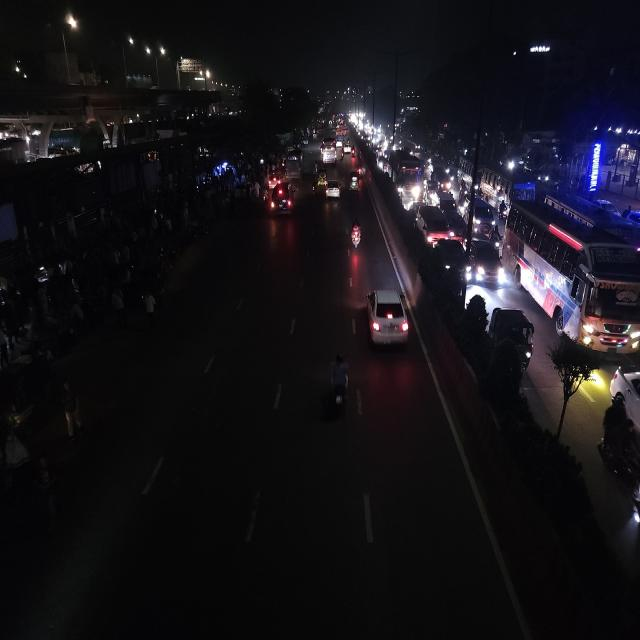bus: (506, 198, 640, 352), (480, 168, 536, 206), (390, 150, 422, 208), (320, 135, 338, 165)
car: (362, 284, 410, 355), (464, 234, 504, 289), (413, 202, 451, 249), (464, 197, 498, 238), (269, 180, 295, 218), (438, 189, 459, 217), (325, 177, 342, 202), (343, 140, 351, 155)
cng: (486, 302, 536, 375), (348, 170, 359, 192), (319, 170, 328, 187)
motorcycle: (325, 350, 351, 417), (349, 217, 363, 252), (350, 147, 357, 163)
pedestrian: (57, 379, 84, 441)
